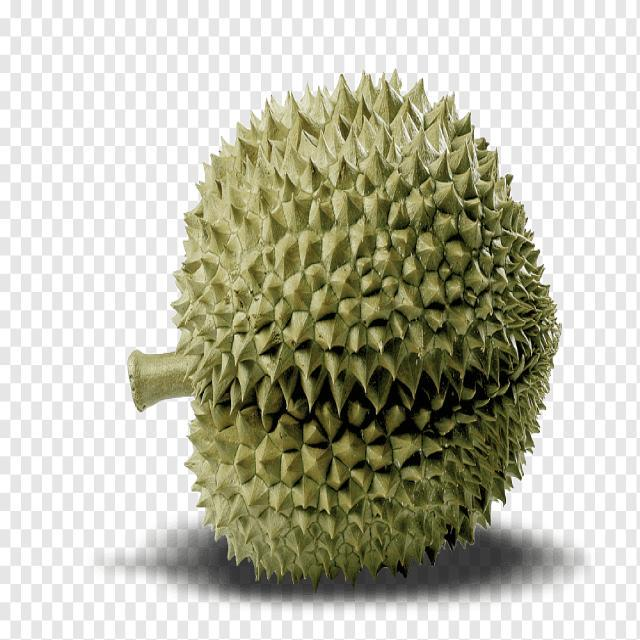immature: (170, 64, 564, 593)
